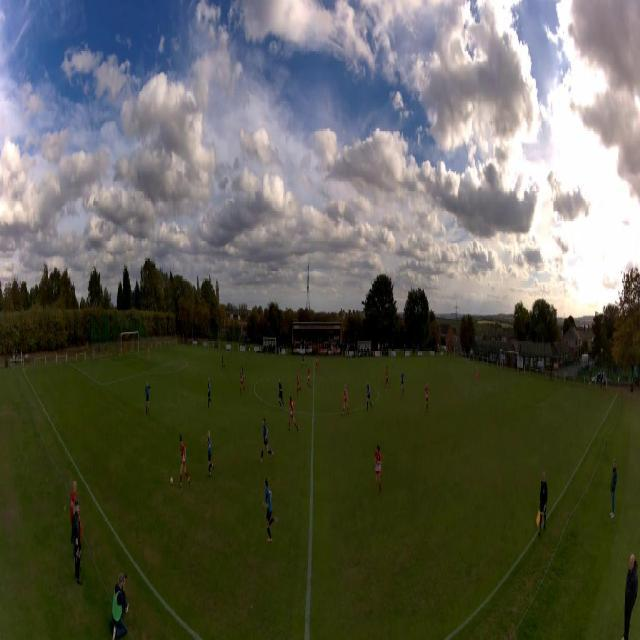ball: (170, 477, 173, 485)
player: (262, 476, 278, 544), (259, 417, 274, 463), (179, 434, 191, 489), (374, 444, 383, 495), (288, 395, 299, 433), (207, 430, 215, 478), (144, 380, 153, 414), (341, 385, 349, 416), (366, 380, 372, 411), (278, 380, 284, 409), (240, 367, 246, 393), (425, 382, 429, 414), (208, 376, 212, 408), (384, 365, 389, 390), (307, 366, 312, 388), (401, 370, 405, 396), (297, 374, 302, 394), (221, 353, 226, 372), (302, 352, 307, 367), (475, 366, 478, 386), (315, 358, 318, 373), (148, 344, 150, 362)
